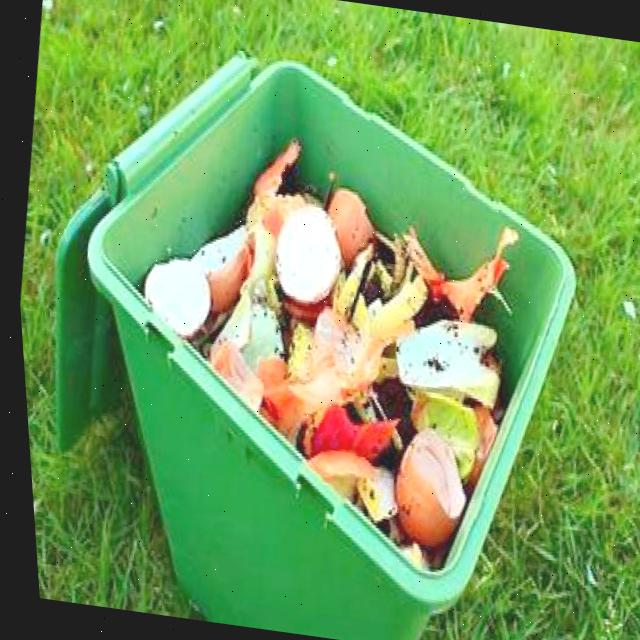Garbage: (138, 140, 513, 565)
